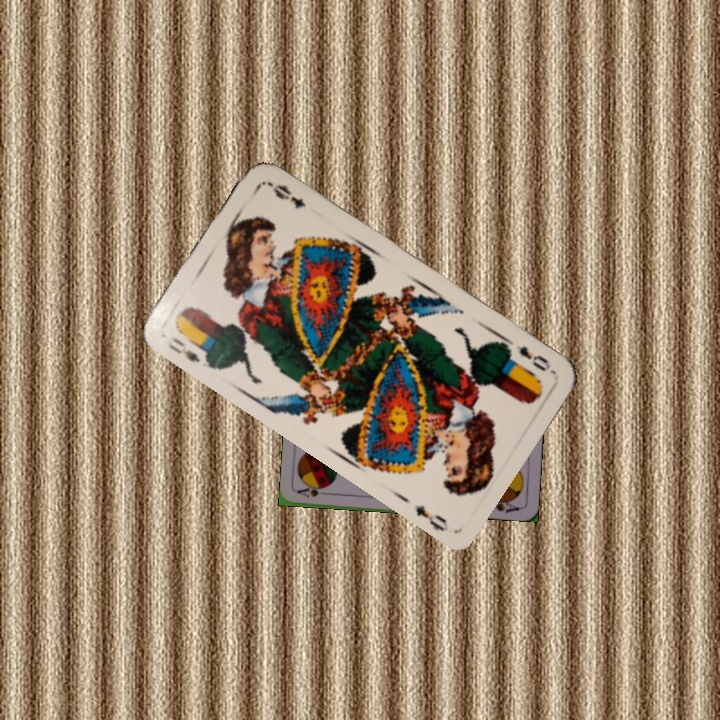EO: (513, 341, 557, 377), (164, 333, 203, 366)
SA: (294, 483, 334, 500)
